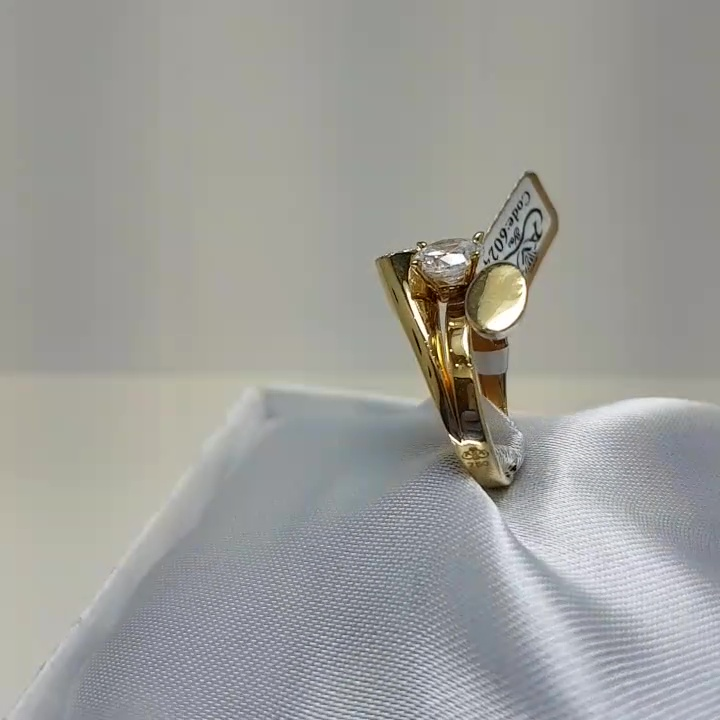Ring 7: (334, 229, 546, 495)
